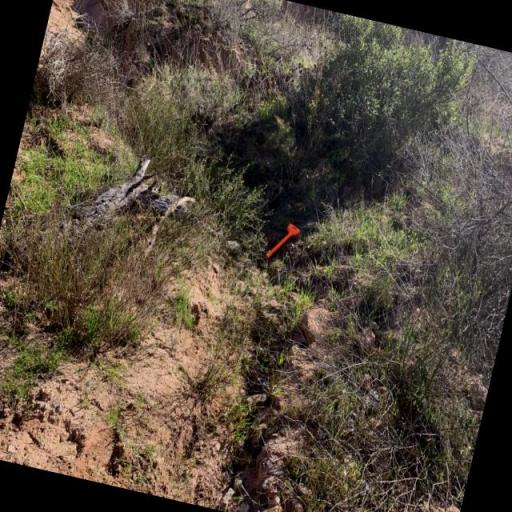mallet: (264, 220, 302, 264)
